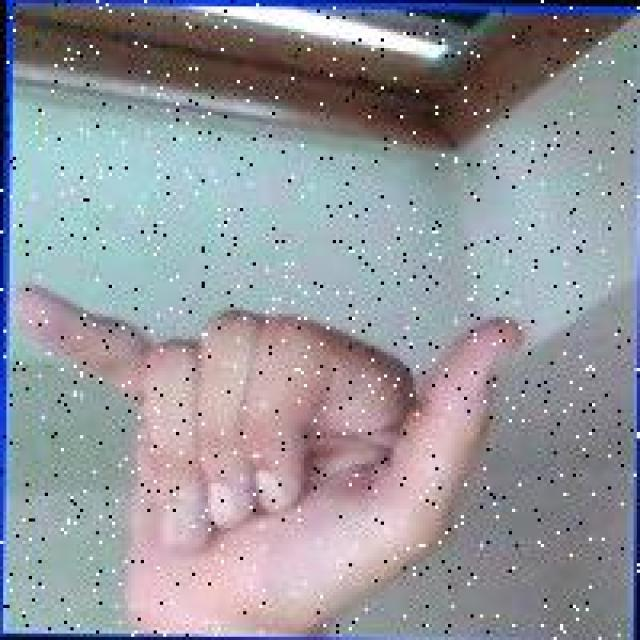Y: (4, 269, 546, 627)
